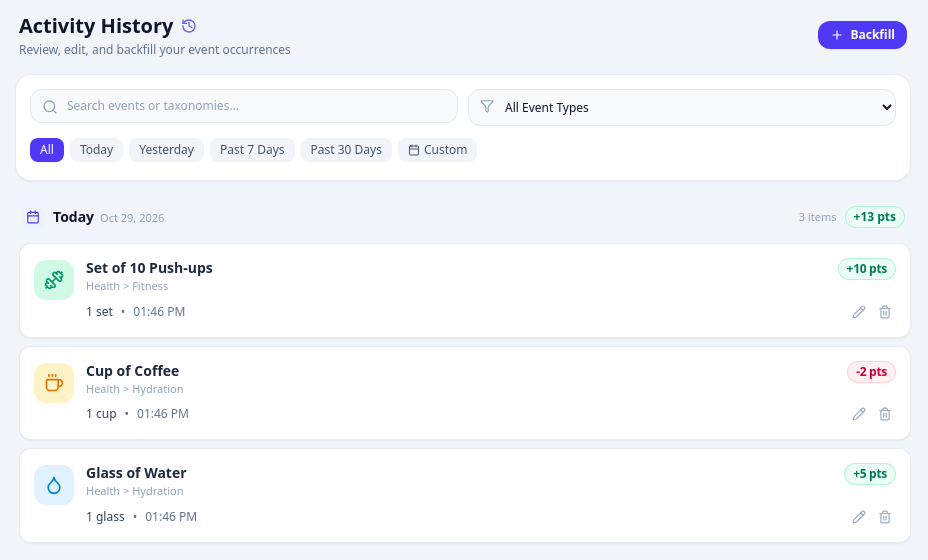
Scenario: HistoryView › filters occurrences by event type
Expected: the number of "HistoryTimelineItem" components is 3, [19,243,911,338]; [19,346,911,440]; [19,448,911,542]
# Select water filter
Select "Glass of Water" in the dropdown with test id "event-type-filter" at (682, 108), box [468,89,896,126]
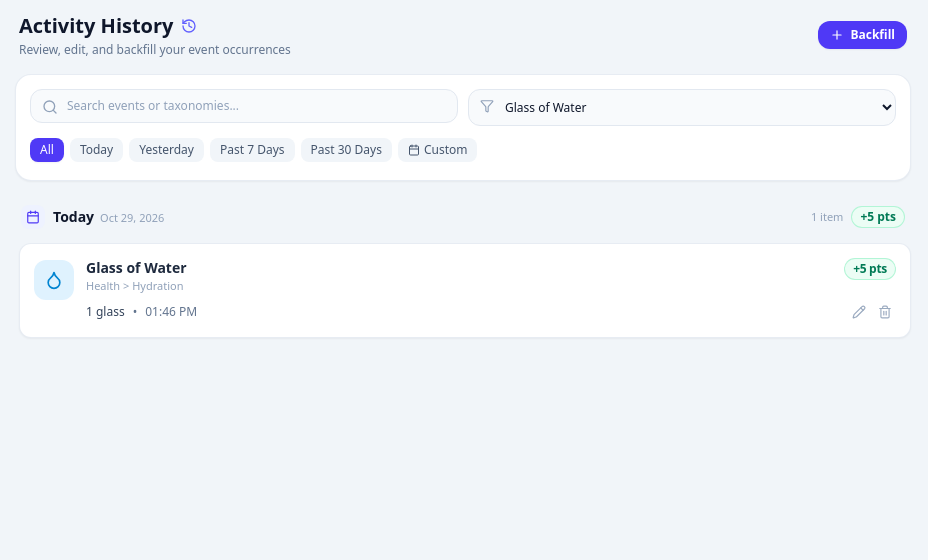
Expected: the number of "HistoryTimelineItem" components is 1, [19,243,911,338]
Now the text with test id "timeline-container" no longer shows "Cup of Coffee"
Now the text with test id "timeline-container" no longer shows "Set of 10 Push-ups"
